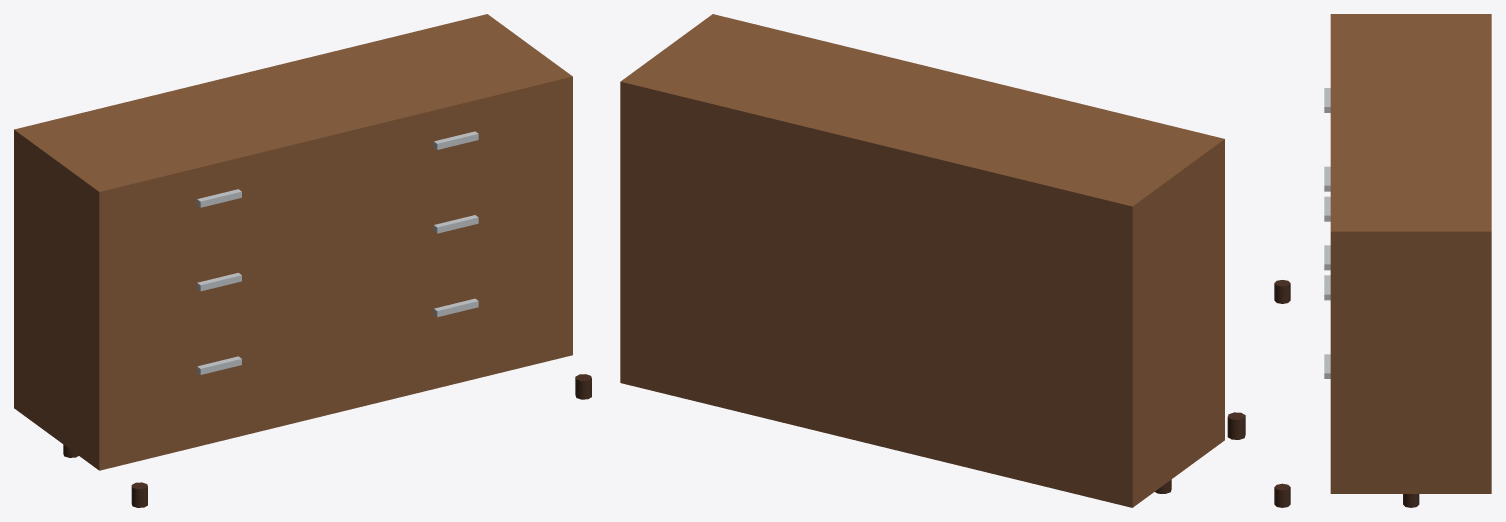
File: dresser.glb
3 views of the same model, side by side, from view 1: azimuth 30°, elevation 25°; view 2: azimuth 150°, elevation 25°; view 3: azimuth 270°, elevation 25° (orthographic). The views are drawn at different scales.
Visible parts, largest first — view 1: dresser; view 2: dresser; view 3: dresser.
Part boxes in pixels (x1,y1,x2,y2): dresser: [14, 14, 591, 507]; dresser: [620, 14, 1245, 507]; dresser: [1274, 14, 1491, 507].
Size of the model in its own units: 1.6 by 0.96 by 0.675.
